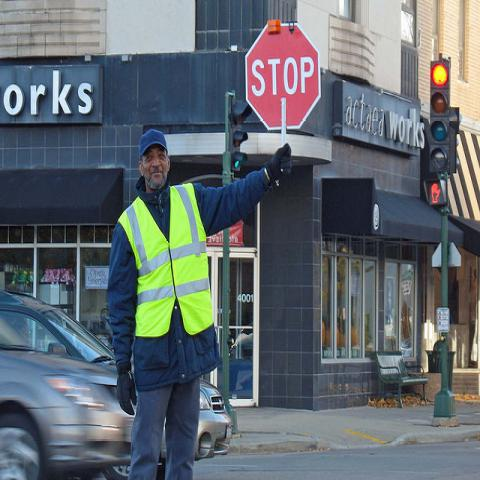car: (0, 348, 136, 478), (0, 289, 118, 370), (160, 377, 234, 461)
